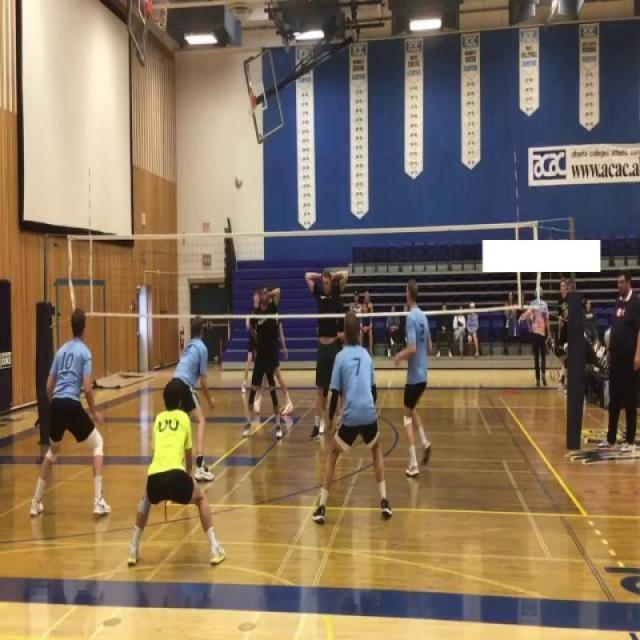volleyball: (234, 174, 243, 190)
